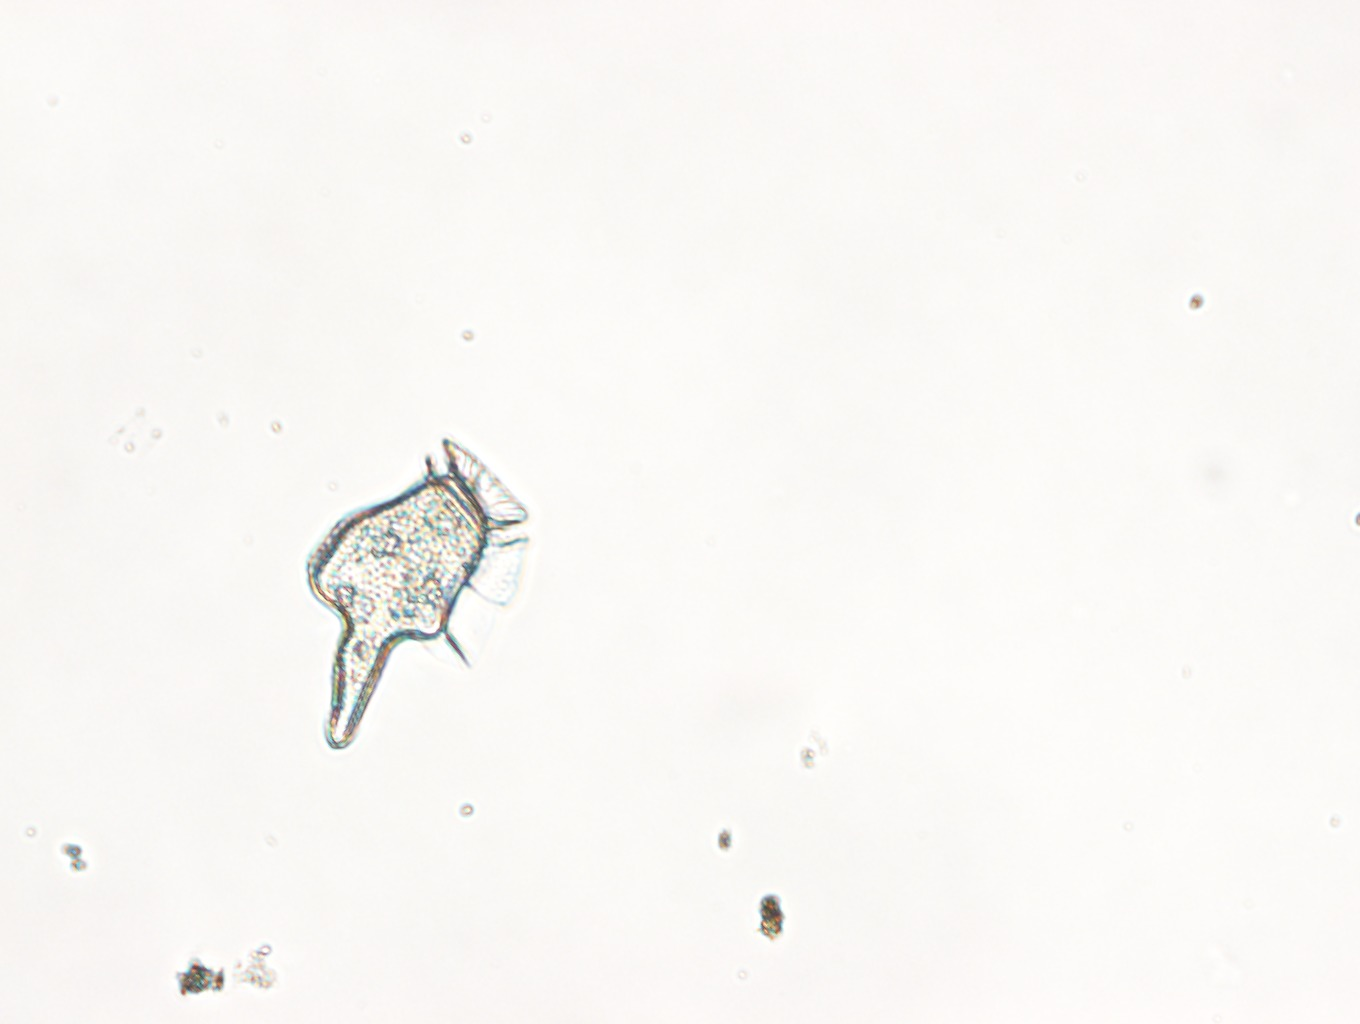dinophysis caudata: (305, 437, 531, 753)
